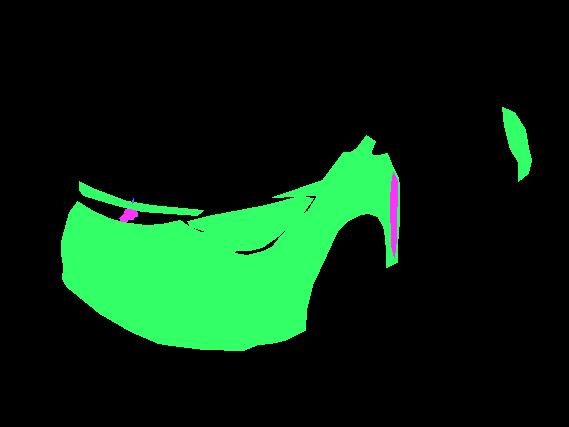Broken part: (61, 201, 337, 350), (272, 135, 399, 267), (187, 196, 313, 250), (79, 181, 203, 215), (502, 107, 531, 181)
Dent: (154, 234, 225, 276), (330, 171, 387, 205), (307, 188, 339, 228), (390, 172, 397, 257), (119, 207, 137, 223), (256, 256, 270, 276), (224, 256, 240, 273)
Scratch: (297, 242, 308, 254), (132, 198, 133, 203)
